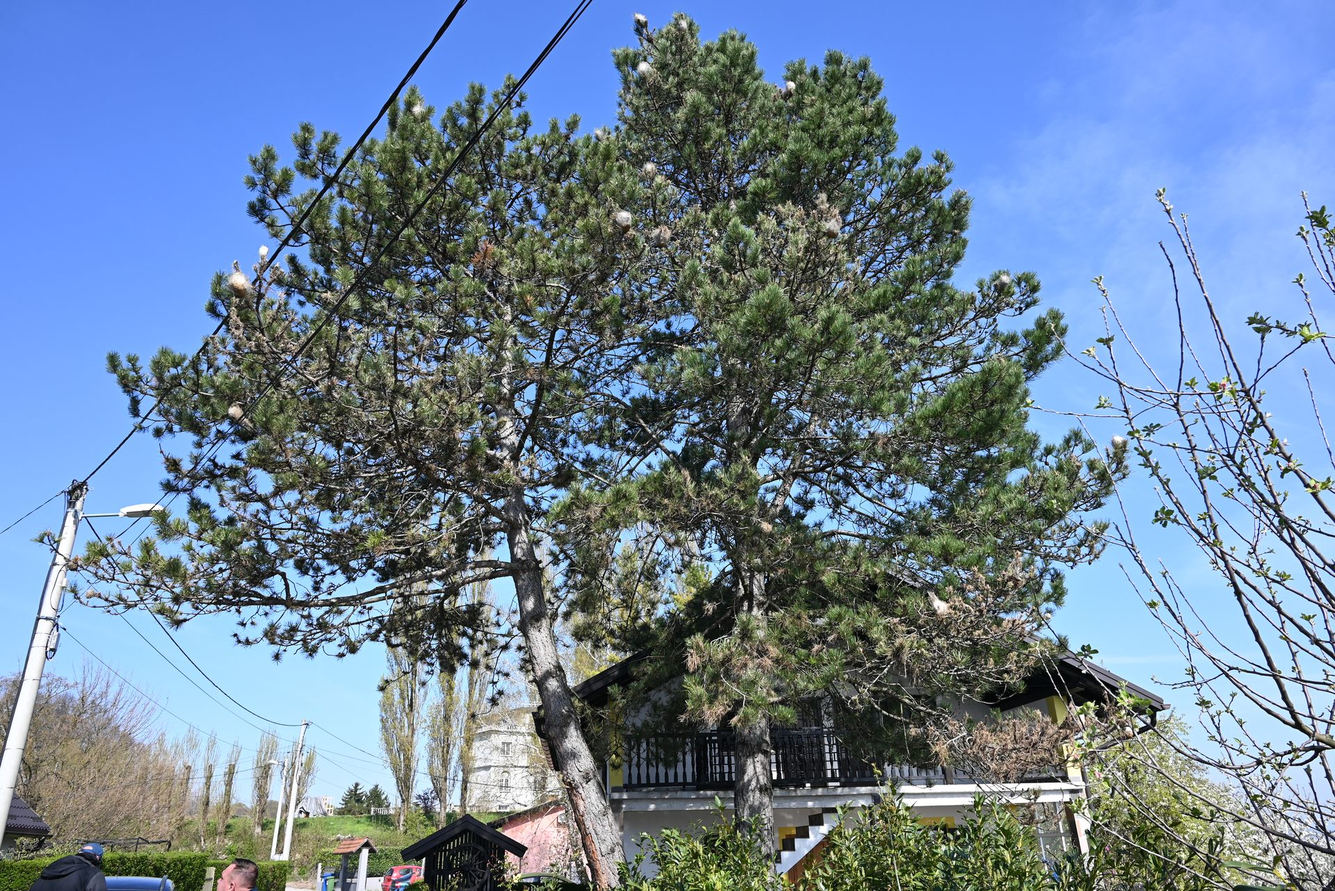thaumatopoea pityocampa jajno gnijezdo: (224, 402, 250, 425), (929, 594, 949, 622), (1111, 430, 1128, 460), (821, 218, 843, 240), (614, 209, 635, 232), (229, 273, 249, 294), (630, 12, 651, 29), (409, 102, 430, 116), (782, 78, 798, 96), (999, 271, 1012, 290), (257, 246, 272, 261), (636, 63, 653, 76), (642, 163, 656, 177), (679, 17, 691, 33)
